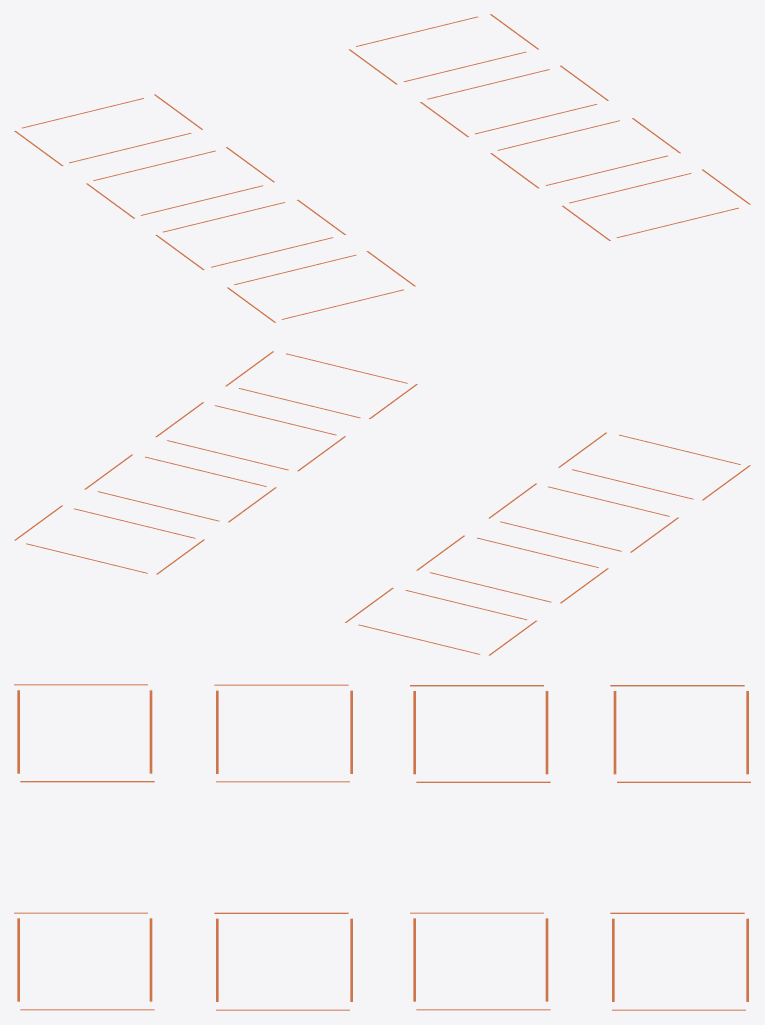
File: slot.glb
The picture shows the model from 3 angles, top to bottom: view 1: azimuth 30°, elevation 25°; view 2: azimuth 150°, elevation 25°; view 3: azimuth 270°, elevation 25°; orthographic projection. The views are drawn at different scales.
Visible parts, largest first — view 1: A2, A1, A3, B2, A4, B1, B4, B3; view 2: B2, A2, A1, A3, B1, B3, B4, A4; view 3: A2, A4, B4, B1, B2, A1, A3, B3.
Boxes of the visible parts, x1=… form: A2: x1=420, y1=65, x2=608, y2=137; A1: x1=348, y1=14, x2=538, y2=84; A3: x1=490, y1=118, x2=680, y2=188; B2: x1=86, y1=147, x2=274, y2=218; A4: x1=562, y1=169, x2=750, y2=240; B1: x1=14, y1=94, x2=202, y2=166; B4: x1=227, y1=251, x2=415, y2=322; B3: x1=155, y1=199, x2=345, y2=270; B2: x1=416, y1=535, x2=608, y2=603; A2: x1=84, y1=454, x2=276, y2=522; A1: x1=14, y1=505, x2=204, y2=574; A3: x1=155, y1=402, x2=345, y2=471; B1: x1=345, y1=587, x2=536, y2=655; B3: x1=488, y1=483, x2=678, y2=552; B4: x1=558, y1=432, x2=750, y2=500; A4: x1=225, y1=351, x2=417, y2=418; A2: x1=410, y1=912, x2=550, y2=1010; A4: x1=14, y1=912, x2=154, y2=1010; B4: x1=14, y1=684, x2=154, y2=782; B1: x1=610, y1=685, x2=750, y2=782; B2: x1=410, y1=685, x2=550, y2=782; A1: x1=610, y1=912, x2=748, y2=1010; A3: x1=214, y1=912, x2=352, y2=1010; B3: x1=214, y1=684, x2=352, y2=782.
Bounding box in the file's own units: 28.79 × 0.000408 × 27.48.
